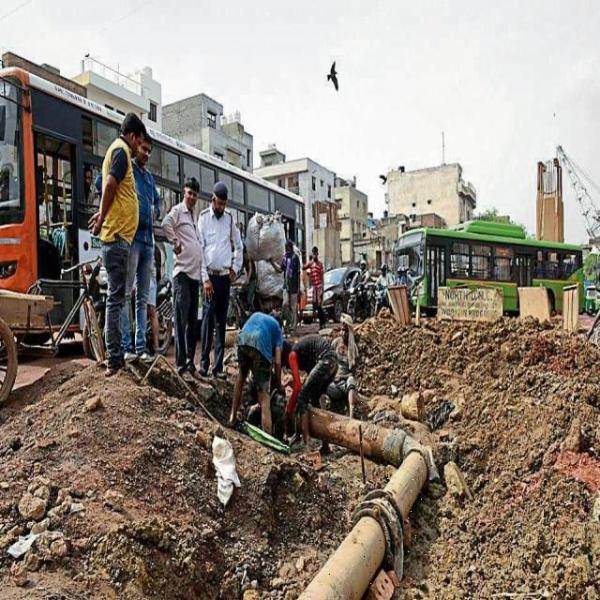no leak: (332, 395, 415, 481)
